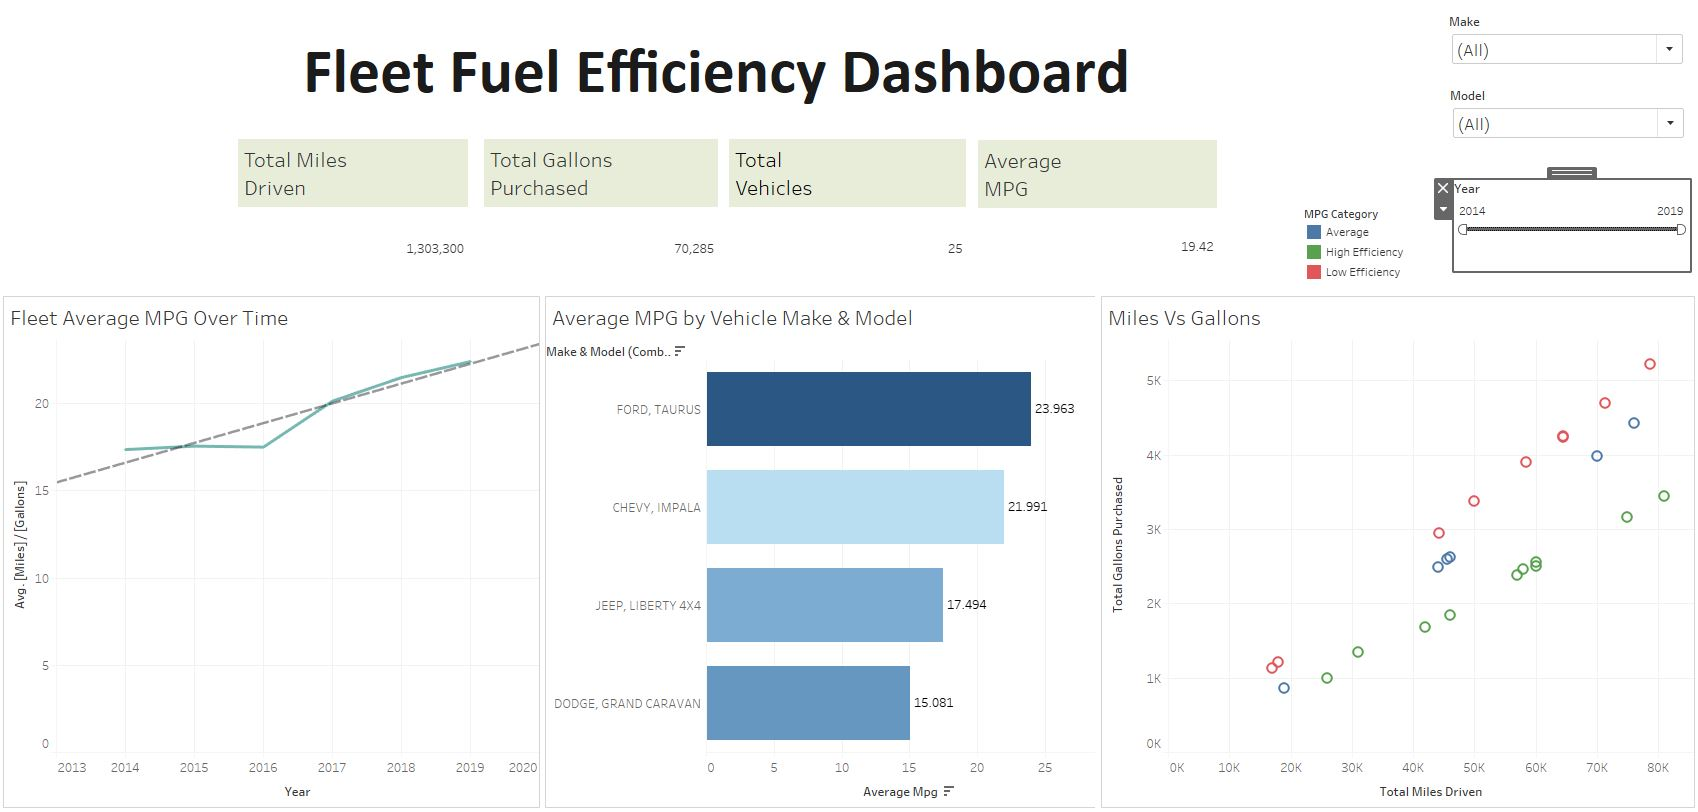

This screenshot's page, from the dashboard's own definition file:
{"tool":"tableau","page":{"name":"Dashboard 1","canvas":[1000,1000],"units":"permille","ordinal":0},"visuals":[{"type":"filter","title":"MPG Over Time","param":"[federated.1rn0d660bxzs8q15jrpuy0ta7z0x].[none:Make:nk]","box":[848.9,15.9,138.6,101.3]},{"type":"text","box":[35.6,24.4,769.6,123.3]},{"type":"filter","title":"MPG Over Time","param":"[federated.1rn0d660bxzs8q15jrpuy0ta7z0x].[none:Model:nk]","box":[849.5,106.2,138.6,116]},{"type":"worksheet","title":"Total Miles Driven","mark":"Automatic","box":[140.4,169.7,134.5,179.5]},{"type":"worksheet","title":"Total Gallons","mark":"Automatic","box":[284.4,169.7,136.8,179.5]},{"type":"worksheet","title":"Total Vehicles","mark":"Automatic","box":[427.7,169.7,138.6,179.5]},{"type":"worksheet","title":"Average MPG","mark":"Automatic","box":[573.5,170.9,139.8,172.2]},{"type":"filter","title":"MPG Over Time","param":"[federated.1rn0d660bxzs8q15jrpuy0ta7z0x].[none:Year:qk]","box":[851.9,219.8,138,111.1]},{"type":"legend","title":"Miles Vs Gallons","param":"[federated.1rn0d660bxzs8q15jrpuy0ta7z0x].[none:Calculation_620652391238918147:nk","box":[764.2,251.5,90.6,155.1]},{"type":"worksheet","title":"MPG Over Time","mark":"Automatic","rows":["Calculation_620652391028822016"],"cols":["Year"],"box":[3,361.4,314,625.1]},{"type":"worksheet","title":"MPG by Vehicle","mark":"Automatic","cols":["Calculation_620652391028822016"],"box":[319.9,361.4,322.3,625.1]},{"type":"worksheet","title":"Miles Vs Gallons","mark":"Automatic","rows":["Gallons"],"cols":["Miles"],"box":[645.1,361.4,347.8,625.1]}]}

Visuals, with their boxes on the dashboard's canvas, which has no fixed pixel size, in thousandths of its width and height (x1, y1, x2, y2). These are canvas units, not pixel positions in the 1698x812 screenshot, which may show the page scaled, cropped or inside an application window:
"MPG Over Time" filter: bbox(849, 16, 988, 117)
text: bbox(36, 24, 805, 148)
"MPG Over Time" filter: bbox(850, 106, 988, 222)
"Total Miles Driven" worksheet: bbox(140, 170, 275, 349)
"Total Gallons" worksheet: bbox(284, 170, 421, 349)
"Total Vehicles" worksheet: bbox(428, 170, 566, 349)
"Average MPG" worksheet: bbox(574, 171, 713, 343)
"MPG Over Time" filter: bbox(852, 220, 990, 331)
"Miles Vs Gallons" legend: bbox(764, 252, 855, 407)
"MPG Over Time" worksheet: bbox(3, 361, 317, 986)
"MPG by Vehicle" worksheet: bbox(320, 361, 642, 986)
"Miles Vs Gallons" worksheet: bbox(645, 361, 993, 986)
